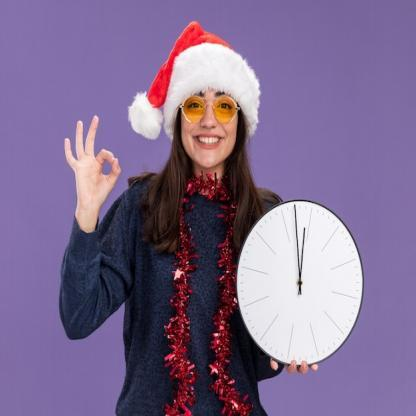ok: (63, 114, 122, 220)
